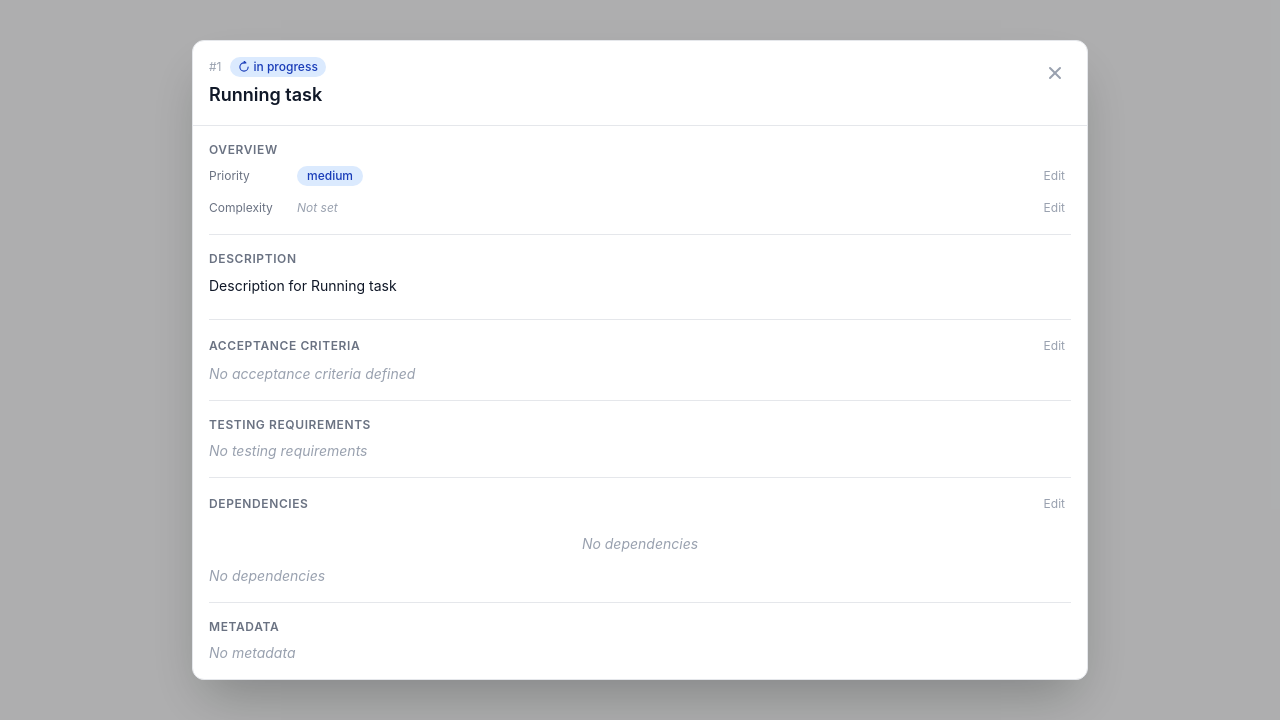
it: TaskDetailPanel inline editing › in_progress warning › shows warning when editing an in_progress task
Click the button with test id "edit-priority-button" at (1054, 176), box 1038,166 -> 1071,186
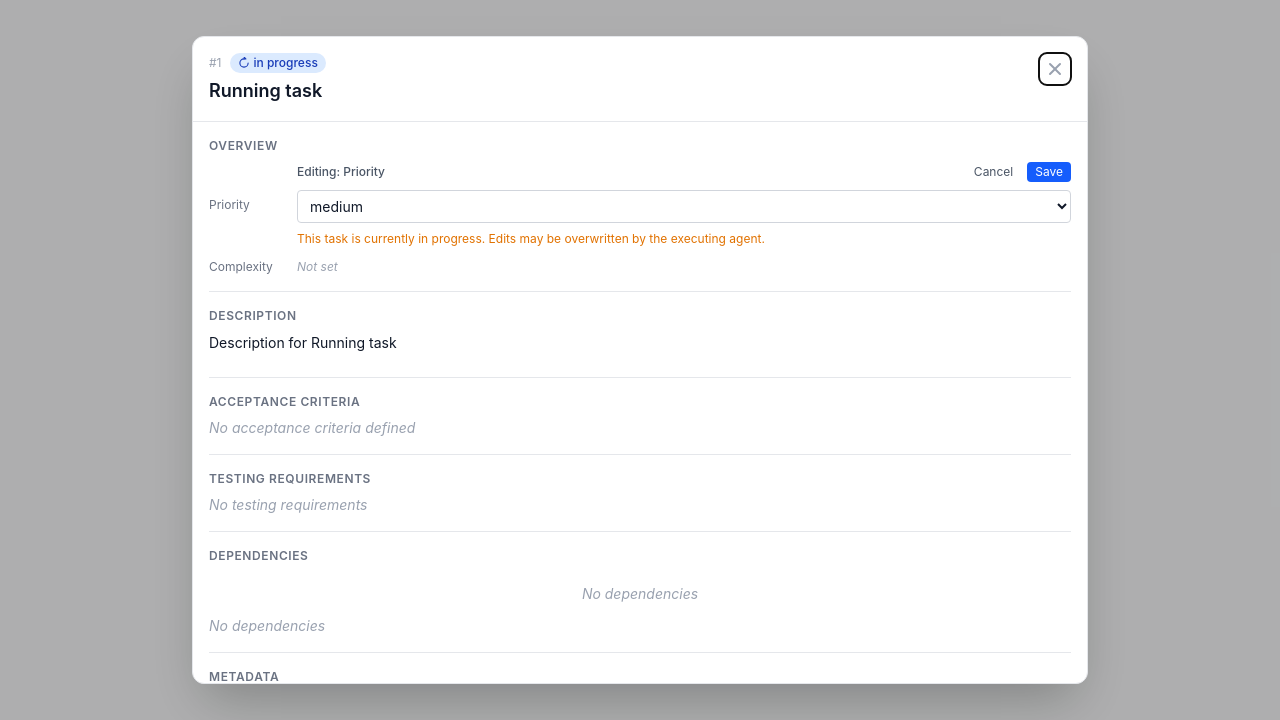
Check: the message with test id "field-warning" shows "in progress", box 297,231 -> 765,246
